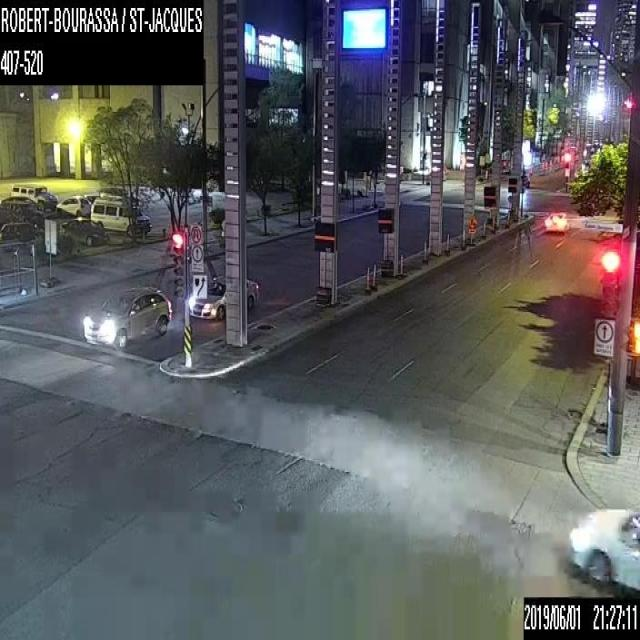construction: (461, 212, 477, 247), (446, 232, 450, 252), (399, 254, 403, 274), (422, 240, 425, 263), (393, 253, 396, 276), (372, 263, 375, 285), (366, 267, 369, 289), (506, 213, 510, 226), (492, 216, 495, 231), (482, 221, 485, 236)
vehicle: (566, 505, 639, 595), (81, 284, 172, 351), (189, 273, 257, 319), (90, 196, 150, 239), (0, 195, 45, 225), (0, 222, 43, 253), (8, 182, 56, 209), (61, 217, 107, 244), (56, 195, 92, 217), (544, 208, 568, 232)
